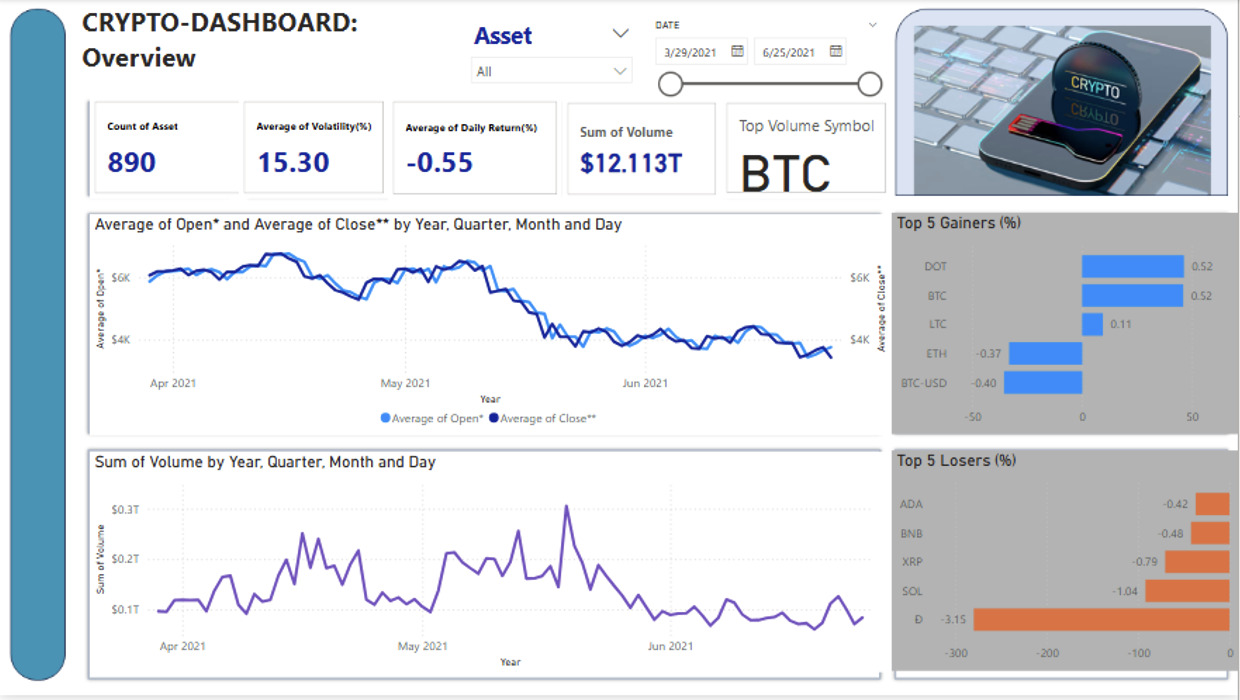

The page's visual inventory and layout, read from the dashboard file:
{"tool":"powerbi","page":{"name":"Page 1","canvas":[1280,720],"ordinal":0},"visuals":[{"type":"lineChart","fields":{"Y":["Avg(Sheet1.Open*)"],"Y2":["Avg(Sheet1.Close**)"],"Category":["DateTable.DATE.Variation.Date Hierarchy.Year","DateTable.DATE.Variation.Date Hierarchy.Quarter","DateTable.DATE.Variation.Date Hierarchy.Month","DateTable.DATE.Variation.Date Hierarchy.Day"]},"box":[92.4,222.5,828.2,229.3],"z":0},{"type":"slicer","fields":{"Values":["Sheet1.Asset"]},"box":[476.9,16.6,187.1,84.5],"z":1000},{"type":"cardVisual","fields":{"Data":["CountNonNull(Sheet1.Asset)"]},"box":[93.1,100.5,164.1,106.4],"z":2000},{"type":"cardVisual","fields":{"Data":["Avg(Sheet1.Volatility(%))"]},"box":[246.8,100.5,155.2,106.4],"z":3000},{"type":"cardVisual","fields":{"Data":["Avg(Sheet1.Daily Return(%))"]},"box":[402,100.5,180.3,107.9],"z":4000},{"type":"cardVisual","fields":{"Data":["Sum(Sheet1.Volume)"]},"box":[582.4,102,164.1,106.4],"z":5000},{"type":"cardVisual","fields":{"Data":["Sheet1.Top Volume Symbol"]},"box":[746.4,102,175.9,104.9],"z":6000},{"type":"barChart","title":"Top 5 Losers (%)","fields":{"Category":["Sheet1.Asset"],"Y":["Sum(Sheet1.Daily Return(%))"]},"box":[921.5,467.4,358.5,228.4],"z":7000},{"type":"barChart","title":"Top 5 Gainers (%)","fields":{"Category":["Sheet1.Asset"],"Y":["Sum(Sheet1.Daily Return(%))"]},"box":[921.7,221,358.3,228.9],"z":8000},{"type":"slicer","fields":{"Values":["DateTable.DATE"]},"box":[664.6,15.7,255.6,86.5],"z":9000},{"type":"lineChart","fields":{"Y":["Sum(Sheet1.Volume)"],"Category":["DateTable.DATE.Variation.Date Hierarchy.Year","DateTable.DATE.Variation.Date Hierarchy.Quarter","DateTable.DATE.Variation.Date Hierarchy.Month","DateTable.DATE.Variation.Date Hierarchy.Day"]},"box":[92.4,468,827.8,228.1],"z":10000},{"type":"textbox","box":[79.8,0,397,102],"z":11000}]}

Visuals, with their boxes in screenshot pixels (x1, y1, x2, y2), scaled from the page's 1280x720 canvas onto the 1240x700 screenshot:
lineChart - Avg(Sheet1.Open*) x Avg(Sheet1.Close**): [x1=90, y1=216, x2=892, y2=439]
slicer - Sheet1.Asset: [x1=462, y1=16, x2=643, y2=98]
cardVisual - CountNonNull(Sheet1.Asset): [x1=90, y1=98, x2=249, y2=201]
cardVisual - Avg(Sheet1.Volatility(%)): [x1=239, y1=98, x2=389, y2=201]
cardVisual - Avg(Sheet1.Daily Return(%)): [x1=389, y1=98, x2=564, y2=203]
cardVisual - Sum(Sheet1.Volume): [x1=564, y1=99, x2=723, y2=203]
cardVisual - Sheet1.Top Volume Symbol: [x1=723, y1=99, x2=893, y2=201]
"Top 5 Losers (%)" barChart: [x1=893, y1=454, x2=1239, y2=676]
"Top 5 Gainers (%)" barChart: [x1=893, y1=215, x2=1239, y2=437]
slicer - DateTable.DATE: [x1=644, y1=15, x2=891, y2=99]
lineChart - Sum(Sheet1.Volume) x DateTable.DATE.Variation.Date Hierarchy.Year: [x1=90, y1=455, x2=891, y2=677]
textbox: [x1=77, y1=0, x2=462, y2=99]
